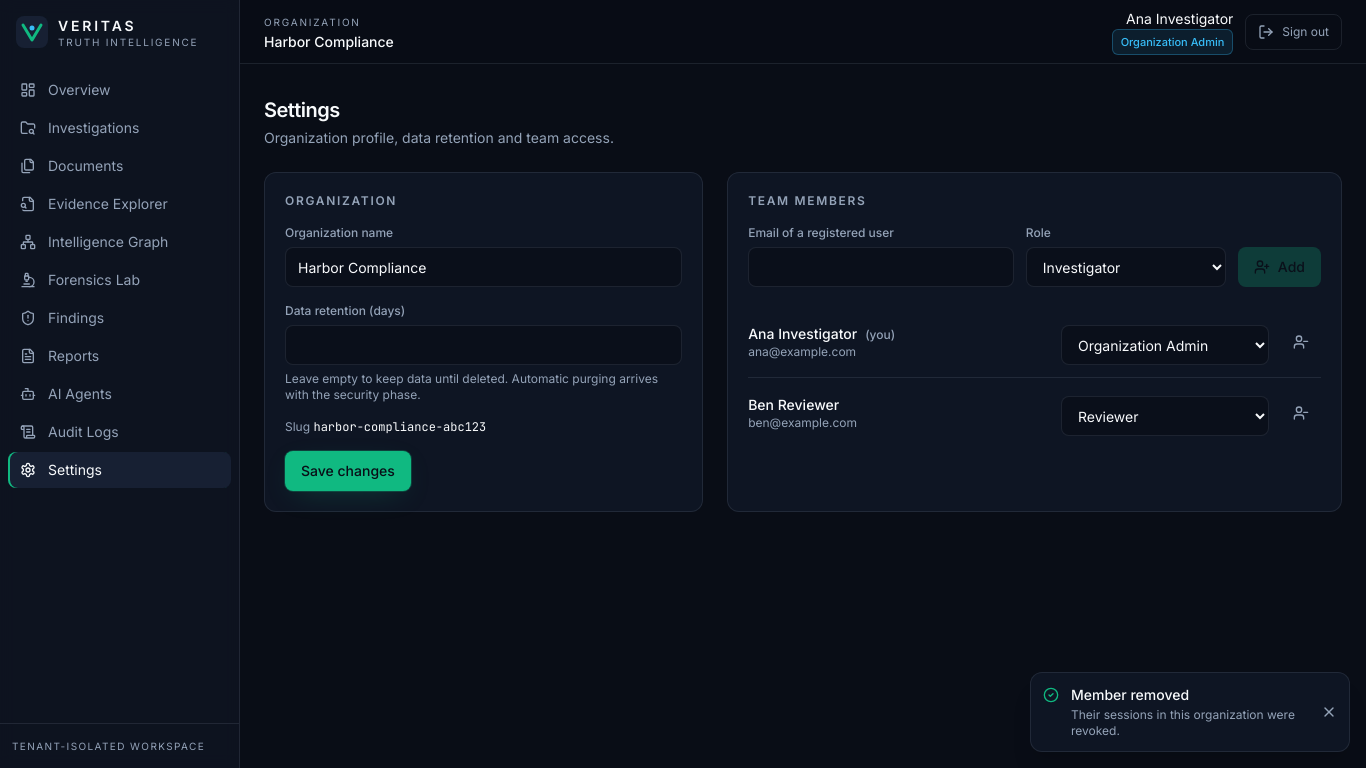
Test: the last-admin conflict from the API is shown as an error toast
Select "Investigator" in the dropdown named "Role for ana@example.com" in the row of "(you)": (1165,345) x1=1061 y1=325 x2=1269 y2=365
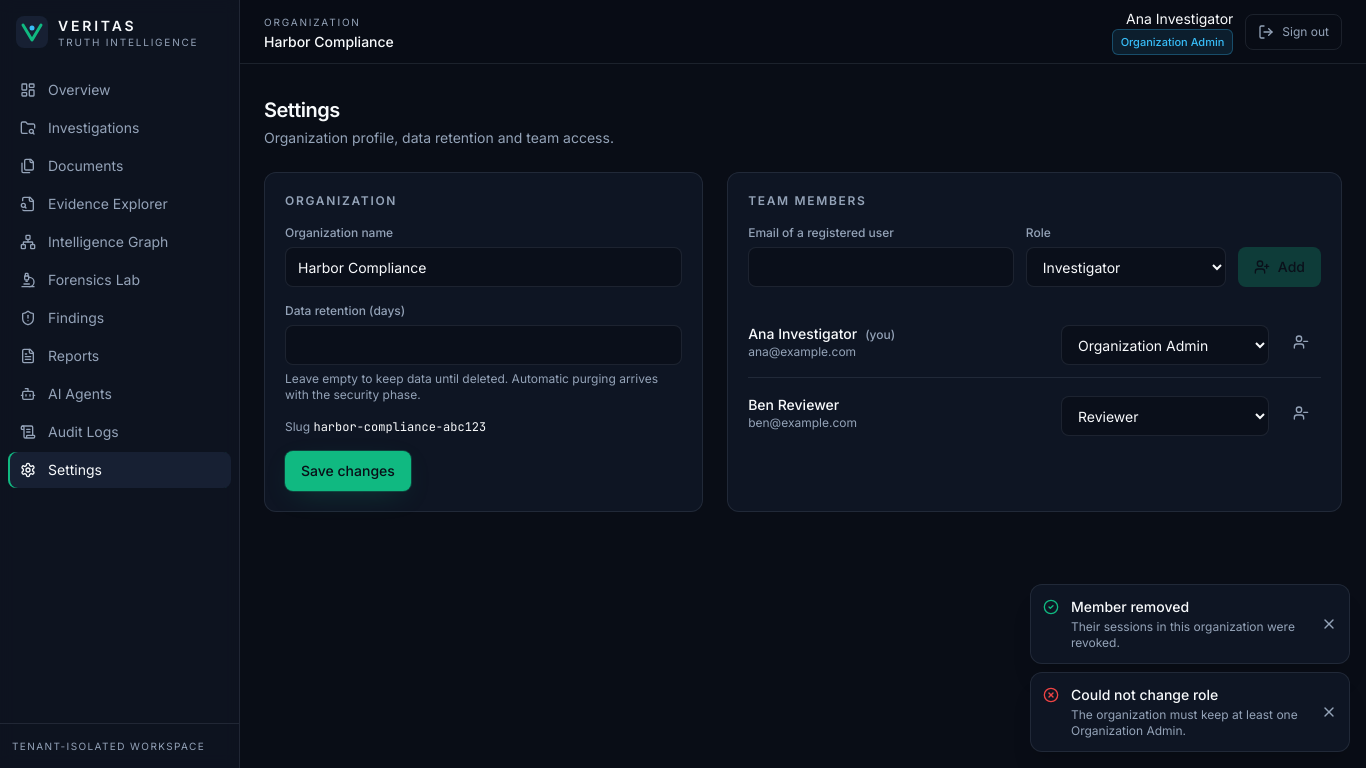
Expected: the text "The organization must keep at least one Organization Admin." is shown, x1=1071 y1=707 x2=1309 y2=739
